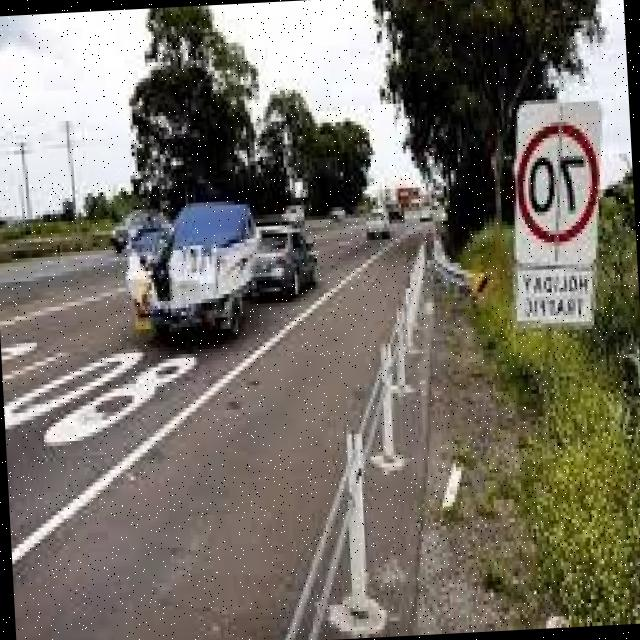speed_limit_70: (510, 116, 604, 250)
